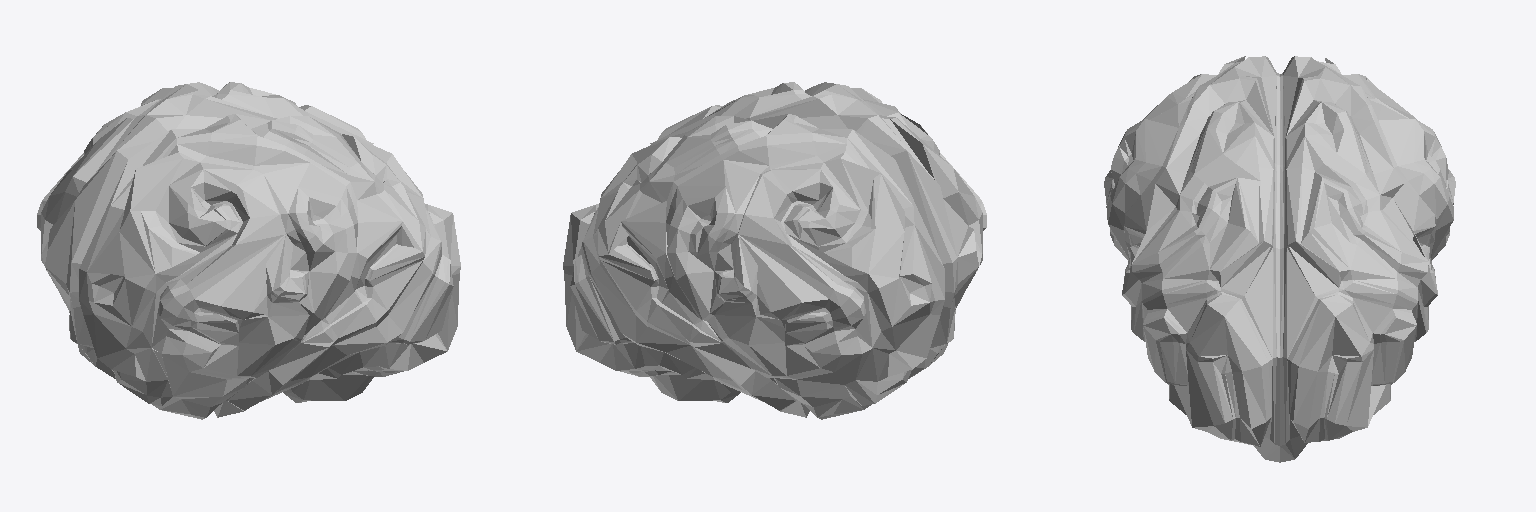
File: BRAINLowPoly.obj
The picture shows the model from 3 angles: view 1: azimuth 30°, elevation 25°; view 2: azimuth 150°, elevation 25°; view 3: azimuth 270°, elevation 25°; orthographic projection.
Parts seen in each view (by area): view 1: BRAINLowPoly:Group1104; view 2: BRAINLowPoly:Group1104; view 3: BRAINLowPoly:Group1104.
Part boxes in pixels (bbox=[...]): BRAINLowPoly:Group1104: bbox=[37, 82, 460, 419]; BRAINLowPoly:Group1104: bbox=[563, 82, 986, 419]; BRAINLowPoly:Group1104: bbox=[1104, 56, 1455, 462].
Bounding box in the file's own units: 3.36 × 2.75 × 2.75.